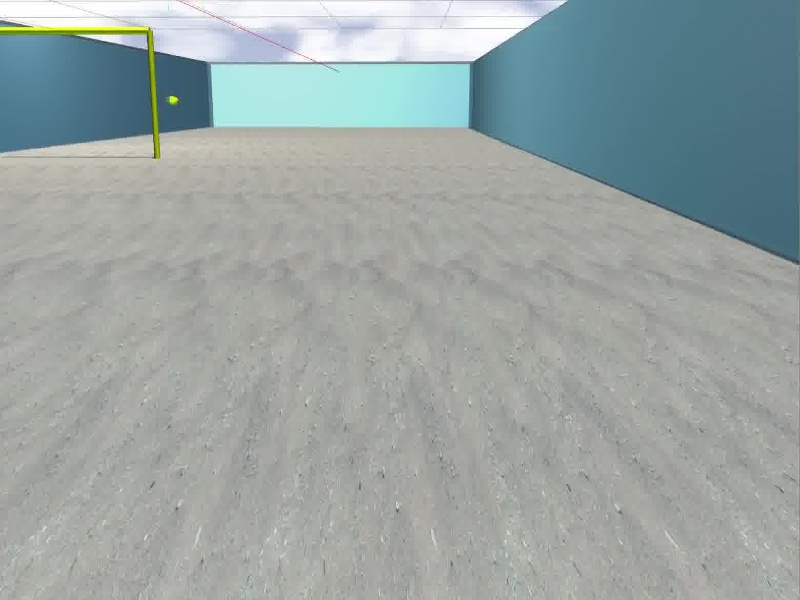gate: (1, 25, 164, 160)
